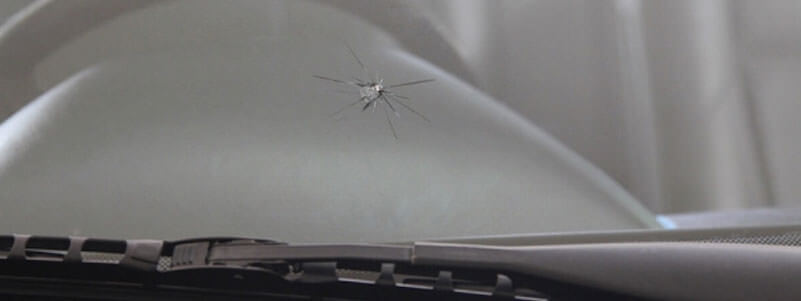bullseye: (313, 40, 451, 151)
